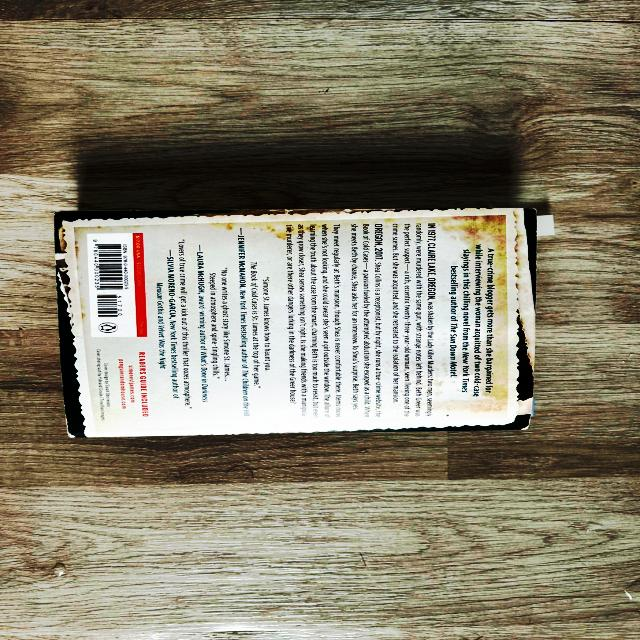Book: (54, 208, 553, 438)
